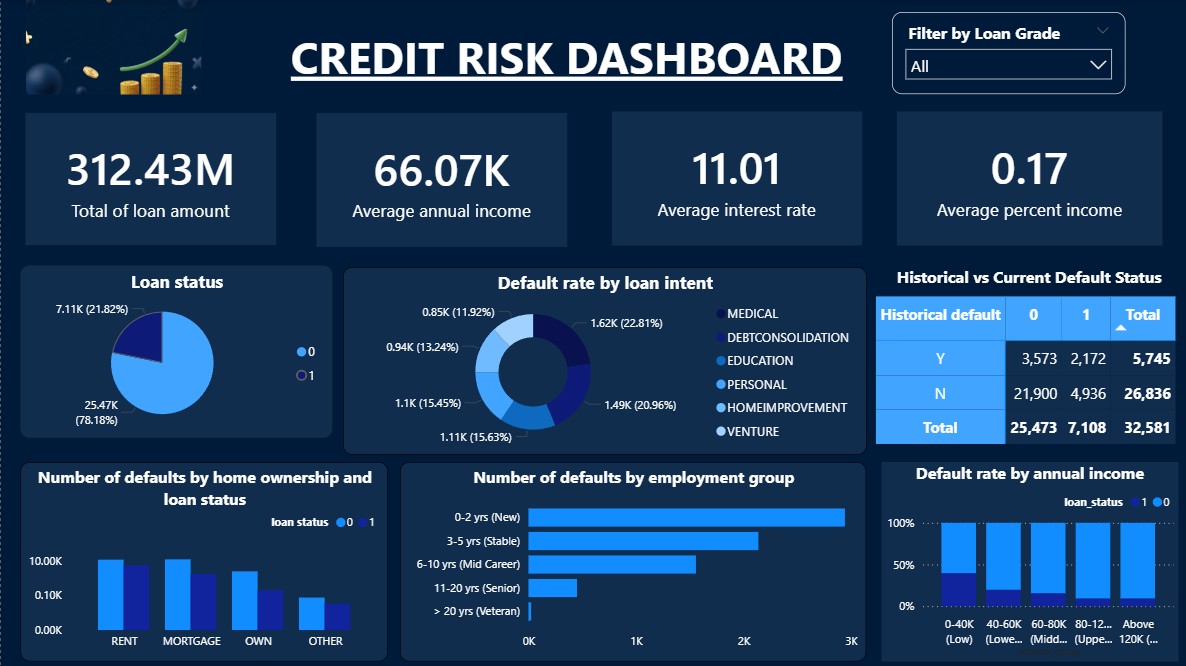

This screenshot's page, from the dashboard's own definition file:
{"tool":"powerbi","page":{"name":"Page 1","canvas":[1280,720],"ordinal":0},"visuals":[{"type":"textbox","box":[288.3,23.3,645,78.3],"z":0},{"type":"slicer","title":"Filter by Loan Grade","fields":{"Values":["credit_risk_dataset (2).loan_grade"]},"box":[961.7,13.3,251.7,88.3],"z":1000},{"type":"cardVisual","fields":{"Data":["Sum(credit_risk_dataset (2).loan_amnt)"]},"box":[21,116.6,281.7,153.8],"z":2000},{"type":"cardVisual","fields":{"Data":["Avg(credit_risk_dataset (2).person_income)"]},"box":[335.2,116.6,281.7,155.4],"z":3000},{"type":"cardVisual","fields":{"Data":["Avg(credit_risk_dataset (2).loan_int_rate)"]},"box":[654.2,115,280.1,155.4],"z":4000},{"type":"cardVisual","fields":{"Data":["Avg(credit_risk_dataset (2).loan_percent_income)"]},"box":[961.8,115,297.9,155.4],"z":5000},{"type":"pieChart","title":"Loan status","fields":{"Category":["credit_risk_dataset (2).loan_status"],"Y":["CountNonNull(credit_risk_dataset (2).loan_status)"]},"box":[21,286.6,336.8,186.2],"z":6000},{"type":"clusteredColumnChart","title":"Number of defaults by home ownership and loan status","fields":{"Category":["credit_risk_dataset (2).person_home_ownership"],"Y":["CountNonNull(credit_risk_dataset (2).loan_status)"],"Series":["credit_risk_dataset (2).loan_status"]},"box":[21,498.7,396.7,215.4],"z":7000},{"type":"pivotTable","title":"Historical vs Current Default Status","fields":{"Rows":["credit_risk_dataset (2).cb_person_default_on_file"],"Columns":["credit_risk_dataset (2).loan_status"],"Values":["CountNonNull(credit_risk_dataset (2).loan_status)"]},"box":[939.2,286.6,341.7,202.4],"z":8000},{"type":"donutChart","title":"Default rate by loan intent","fields":{"Category":["credit_risk_dataset (2).loan_intent"],"Y":["CountNonNull(credit_risk_dataset (2).loan_status)"]},"box":[369.2,288.2,565.1,202.4],"z":9000},{"type":"barChart","title":"Number of defaults by employment group","fields":{"Category":["credit_risk_dataset (2).Employment_Group"],"Y":["CountNonNull(credit_risk_dataset (2).loan_status)"]},"box":[430.7,498.7,503.6,215.4],"z":10000},{"type":"hundredPercentStackedColumnChart","title":"Default rate by annual income","fields":{"Category":["credit_risk_dataset (2).Income_group"],"Y":["CountNonNull(credit_risk_dataset (2).loan_status)"],"Series":["credit_risk_dataset (2).loan_status"]},"box":[950.5,498.7,320.6,215.4],"z":11000},{"type":"image","box":[25,0,195,101.7],"z":12000}]}

Visuals, with their boxes in screenshot pixels (x1, y1, x2, y2), scaled from the page's 1280x720 canvas onto the 1186x666 screenshot:
textbox: l=267, t=22, r=865, b=94
"Filter by Loan Grade" slicer: l=891, t=12, r=1124, b=94
cardVisual - Sum(credit_risk_dataset (2).loan_amnt): l=19, t=108, r=280, b=250
cardVisual - Avg(credit_risk_dataset (2).person_income): l=311, t=108, r=572, b=252
cardVisual - Avg(credit_risk_dataset (2).loan_int_rate): l=606, t=106, r=866, b=250
cardVisual - Avg(credit_risk_dataset (2).loan_percent_income): l=891, t=106, r=1167, b=250
"Loan status" pieChart: l=19, t=265, r=332, b=437
"Number of defaults by home ownership and loan status" clusteredColumnChart: l=19, t=461, r=387, b=661
"Historical vs Current Default Status" pivotTable: l=870, t=265, r=1185, b=452
"Default rate by loan intent" donutChart: l=342, t=267, r=866, b=454
"Number of defaults by employment group" barChart: l=399, t=461, r=866, b=661
"Default rate by annual income" hundredPercentStackedColumnChart: l=881, t=461, r=1178, b=661
image: l=23, t=0, r=204, b=94
